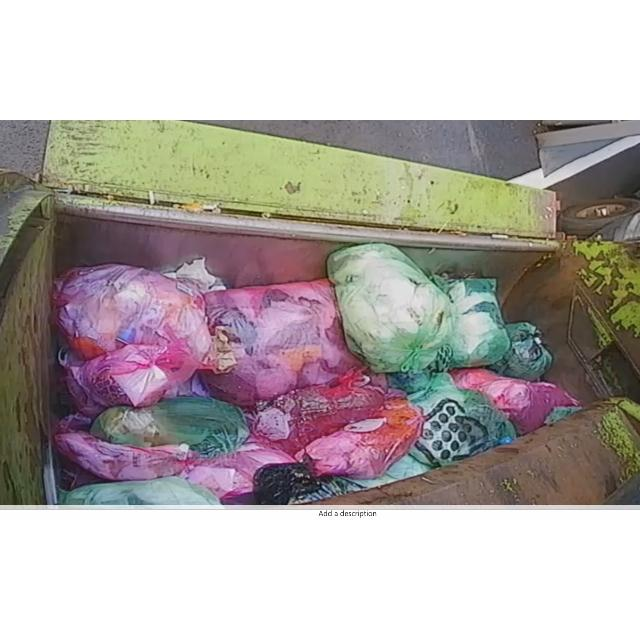general_trashbag: (328, 244, 452, 372), (388, 372, 516, 468), (90, 398, 249, 458), (429, 275, 510, 371), (489, 322, 552, 381)
other_trashbag: (201, 279, 362, 406), (54, 264, 211, 362), (250, 369, 401, 456), (60, 344, 199, 416), (304, 398, 424, 479), (450, 369, 580, 435), (55, 431, 194, 481), (182, 442, 295, 499)
